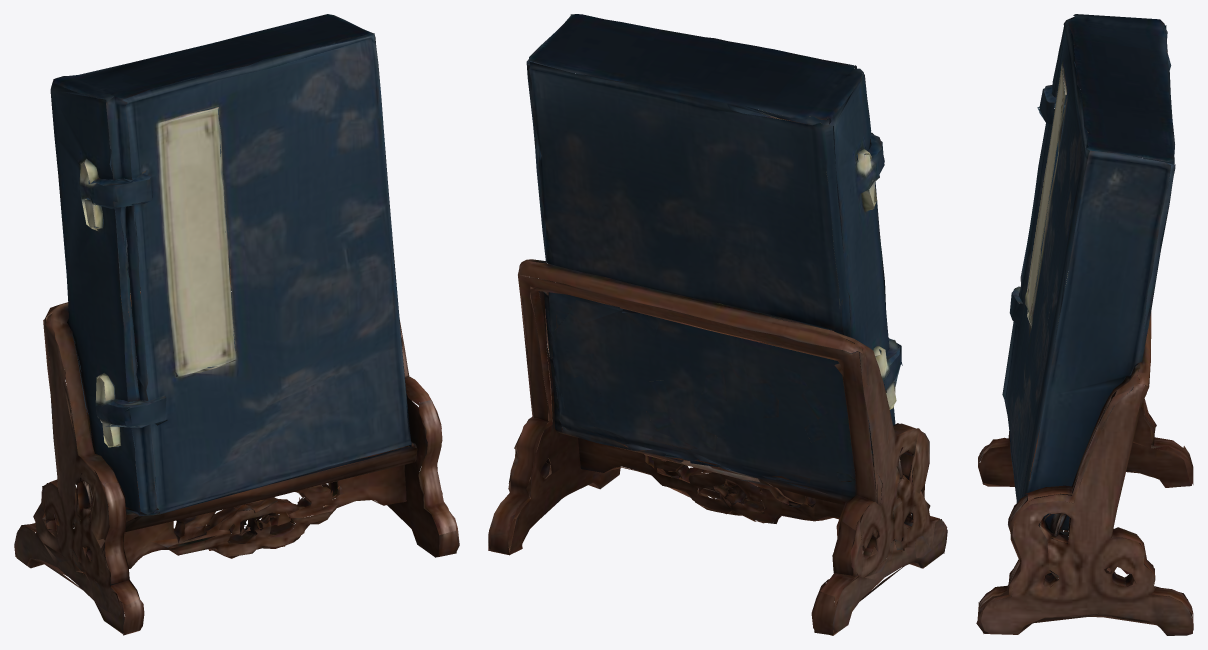
Rendered from B8-book-box.glb.
3 renders of one model, left to right at view 1: azimuth 30°, elevation 25°; view 2: azimuth 150°, elevation 25°; view 3: azimuth 270°, elevation 25°, orthographic. The views are drawn at different scales.
Parts seen in each view (by area): view 1: Prop_B8; view 2: Prop_B8; view 3: Prop_B8.
Part boxes in pixels (box(x1,y1,x2,y2)): Prop_B8: box(14, 14, 459, 635); Prop_B8: box(488, 14, 947, 635); Prop_B8: box(976, 14, 1193, 635).
Size of the model in its own units: 0.7183 by 1.01 by 0.4115.
Materials: 1 (1 with a texture image).
